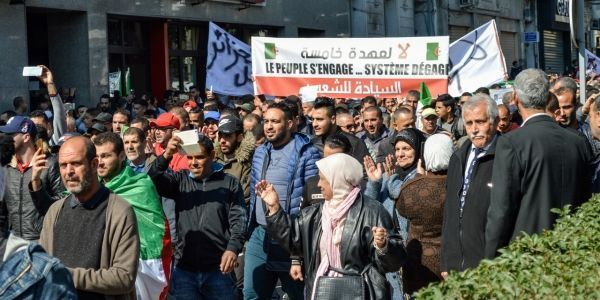without_mask: (60, 156, 92, 195), (463, 107, 488, 149), (317, 166, 347, 200), (96, 139, 121, 179), (261, 112, 286, 144), (185, 151, 209, 179), (362, 111, 384, 135), (126, 135, 144, 162), (395, 142, 414, 165), (310, 114, 329, 135), (216, 132, 233, 154)
